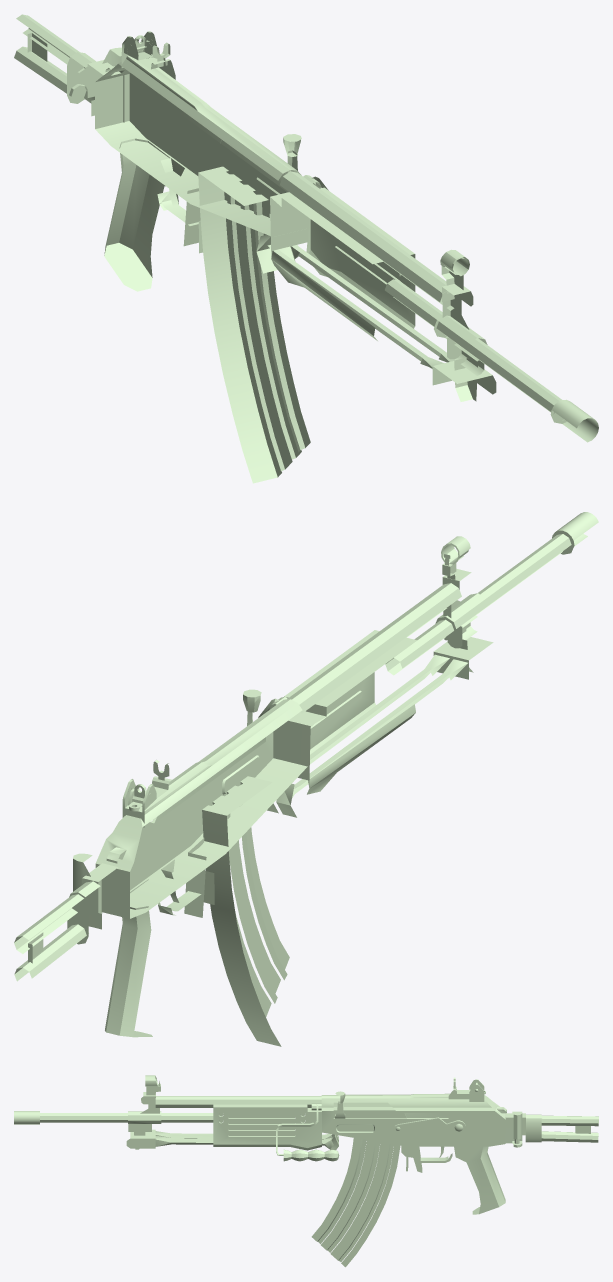
File: GalilModel.fbx
The picture shows the model from 3 angles, top to bottom: view 1: azimuth 30°, elevation 25°; view 2: azimuth 150°, elevation 25°; view 3: azimuth 270°, elevation 25°; orthographic projection. The views are drawn at different scales.
Parts seen in each view (by area): view 1: v_galil_reference; view 2: v_galil_reference; view 3: v_galil_reference.
Boxes of the visible parts, <box> form: v_galil_reference: <box>14,14,598,483</box>; v_galil_reference: <box>14,512,598,1046</box>; v_galil_reference: <box>14,1075,598,1267</box>.
Size of the model in its own units: 305 by 1060 by 2977.
